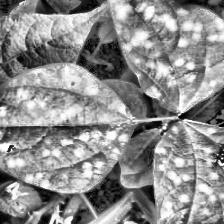Bean Rust: (0, 62, 136, 191), (82, 0, 224, 112), (152, 118, 224, 224)
